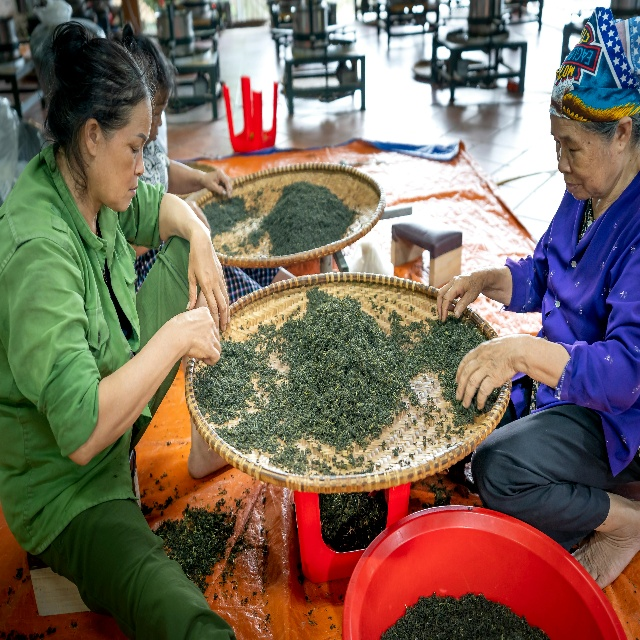Sin_guantes: (186, 222, 231, 333), (455, 333, 514, 412), (435, 268, 482, 324), (184, 305, 221, 366), (202, 166, 234, 200)
